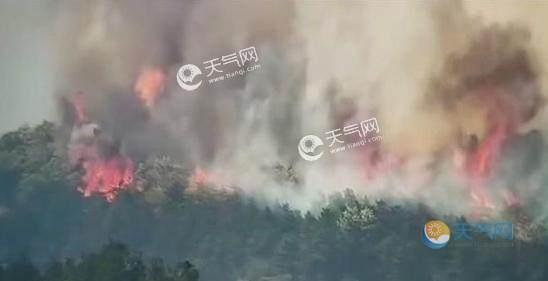fire: (452, 122, 525, 229), (65, 90, 133, 204), (176, 156, 227, 189)
